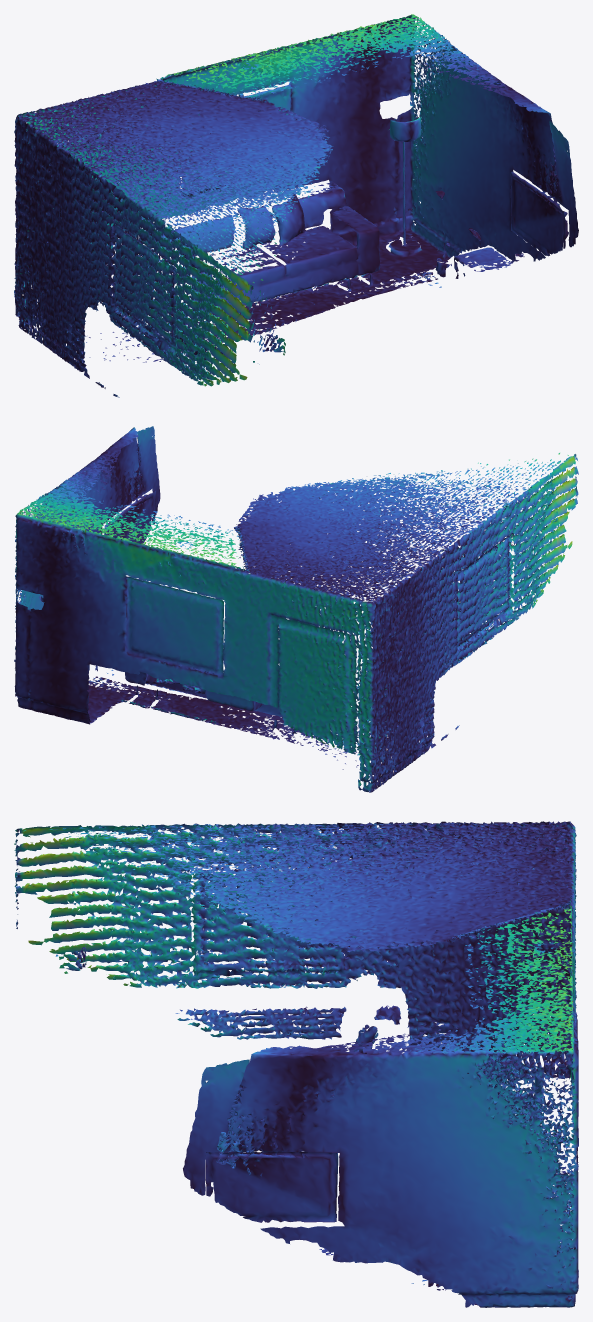
File: tsdf_tuned_estimated_error.glb
3 renders of one model, top to bottom at view 1: azimuth 30°, elevation 25°; view 2: azimuth 150°, elevation 25°; view 3: azimuth 270°, elevation 25°, orthographic. The views are drawn at different scales.
Size of the model in its own units: 4.99 by 2.57 by 5.03.
